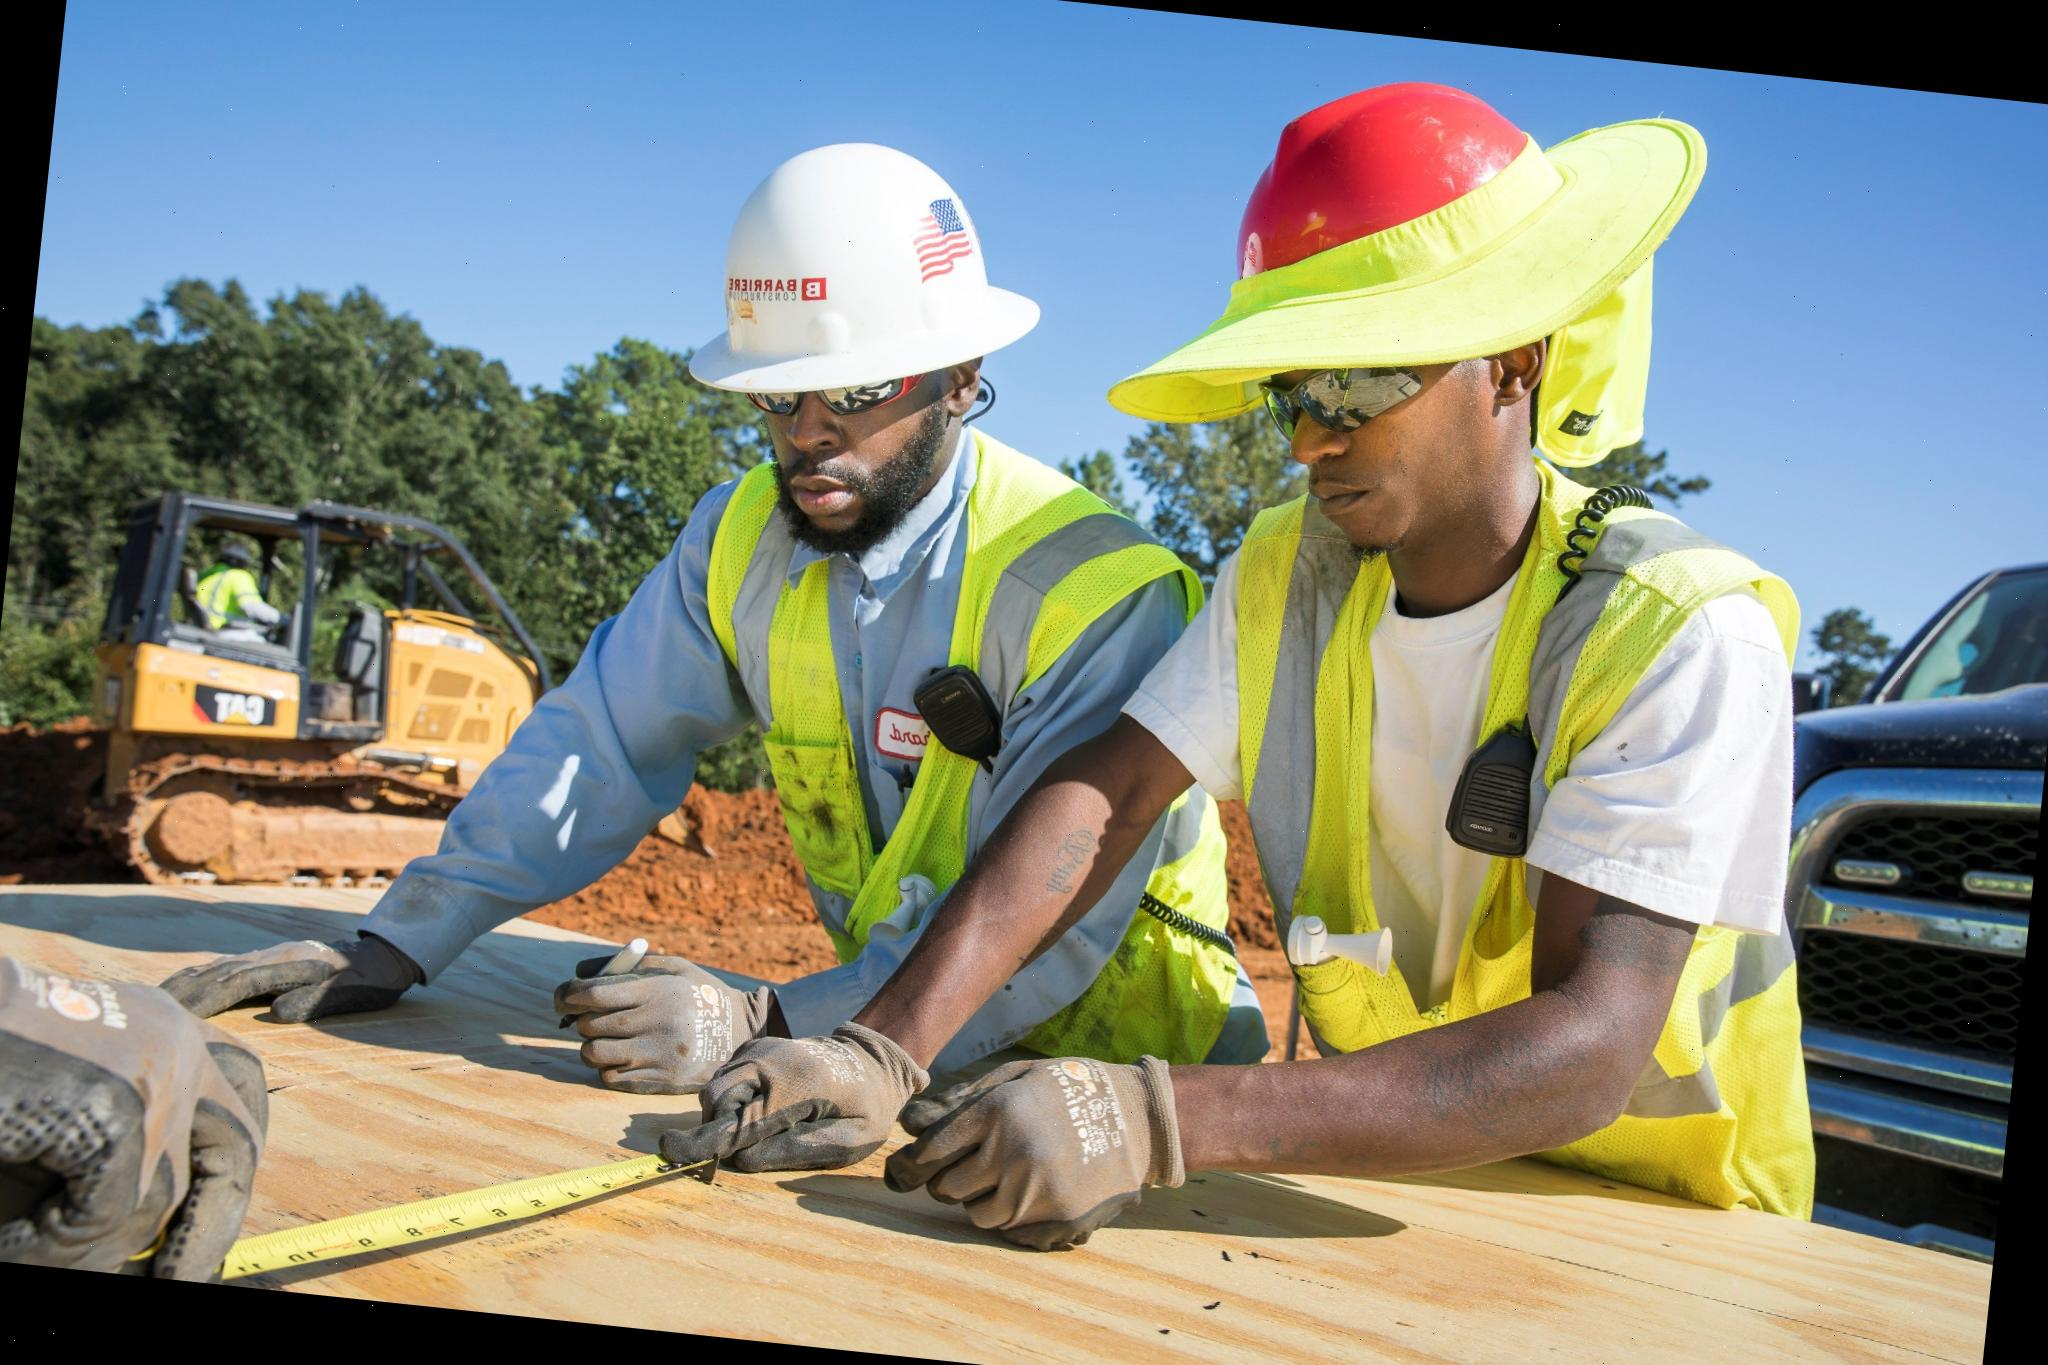helmet: (664, 111, 1072, 431), (1227, 61, 1532, 306)
wear: (1163, 524, 1817, 1170), (655, 510, 1198, 1086)
